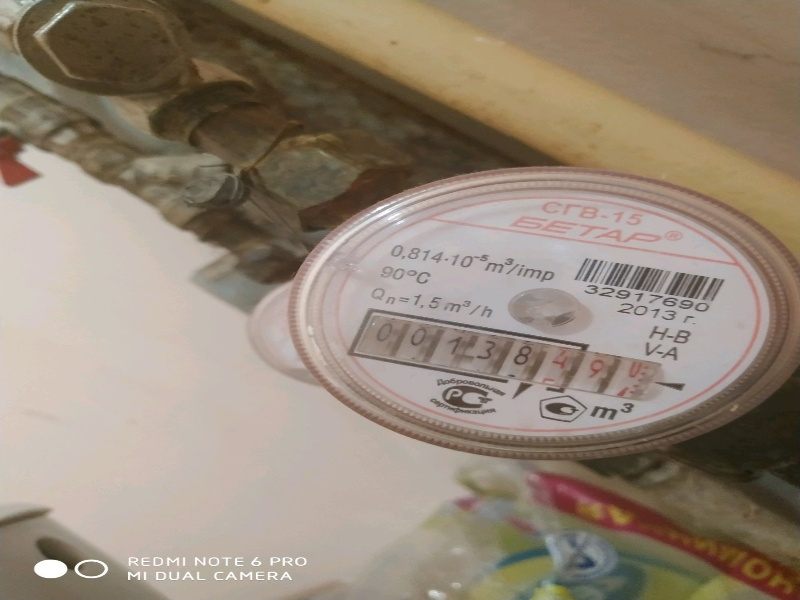meter: (369, 317, 640, 384)
